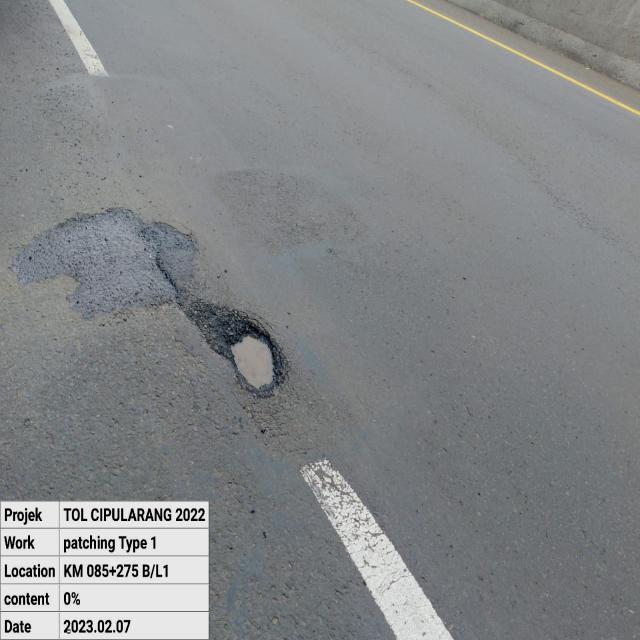Buraco: (202, 311, 289, 401)
